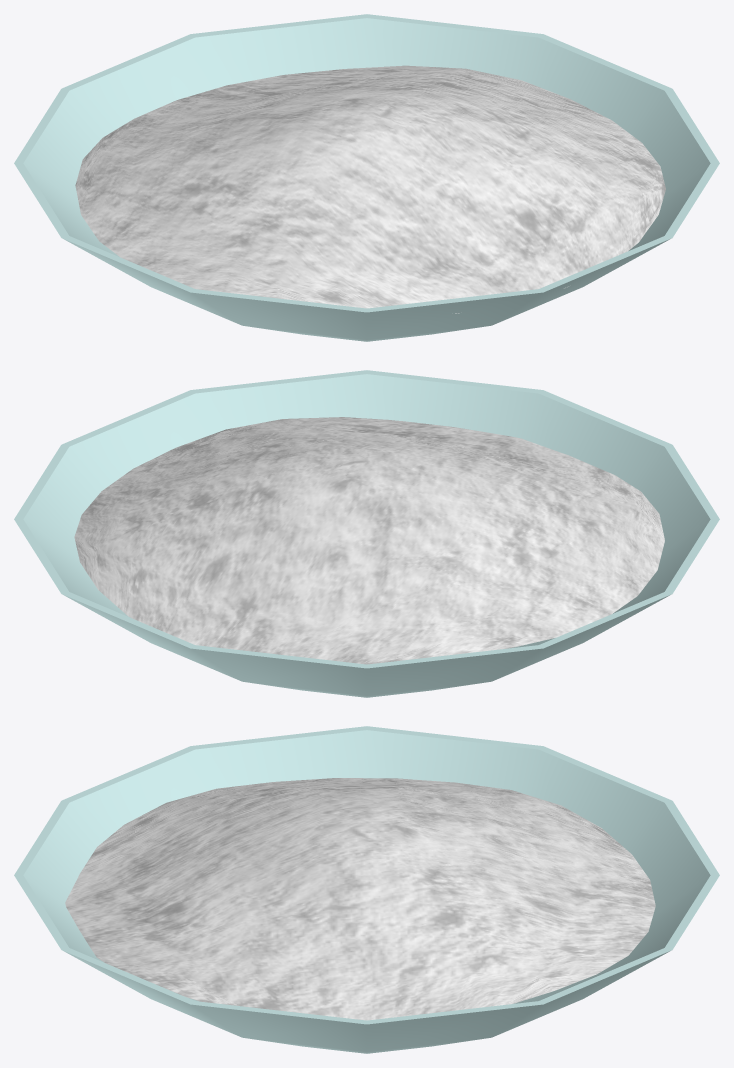
The model's file is baking soda.fbx.
3 renders of one model, top to bottom at view 1: azimuth 30°, elevation 25°; view 2: azimuth 150°, elevation 25°; view 3: azimuth 270°, elevation 25°, orthographic.
Parts seen in each view (by area): view 1: baking_soda, plate; view 2: baking_soda, plate; view 3: baking_soda, plate.
Boxes of the visible parts, box(x1,y1,x2,y2) form: baking_soda: box(75, 65, 665, 313); plate: box(14, 14, 719, 341); baking_soda: box(74, 417, 664, 664); plate: box(14, 370, 719, 697); baking_soda: box(65, 778, 655, 1020); plate: box(14, 726, 719, 1053).
Size of the model in its own units: 23.13 by 6.36 by 23.13.
2 materials, 1 textured.
